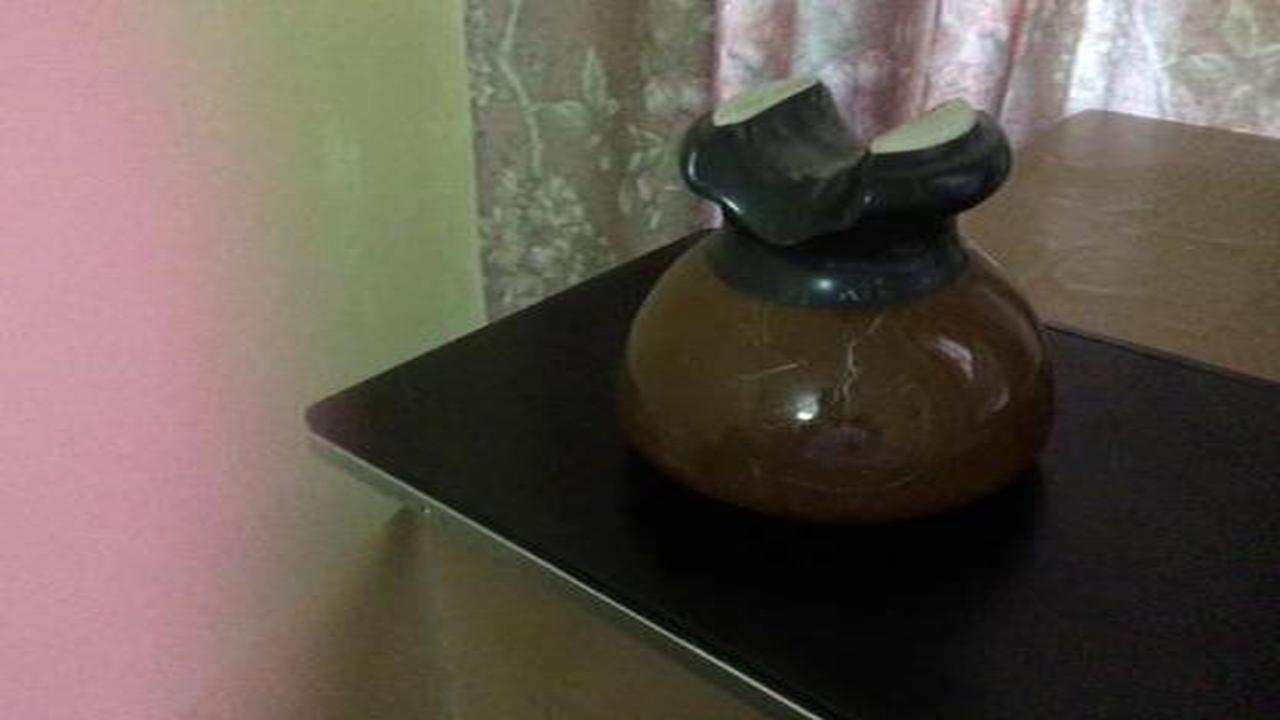insulator_pin: (597, 70, 1087, 535)
